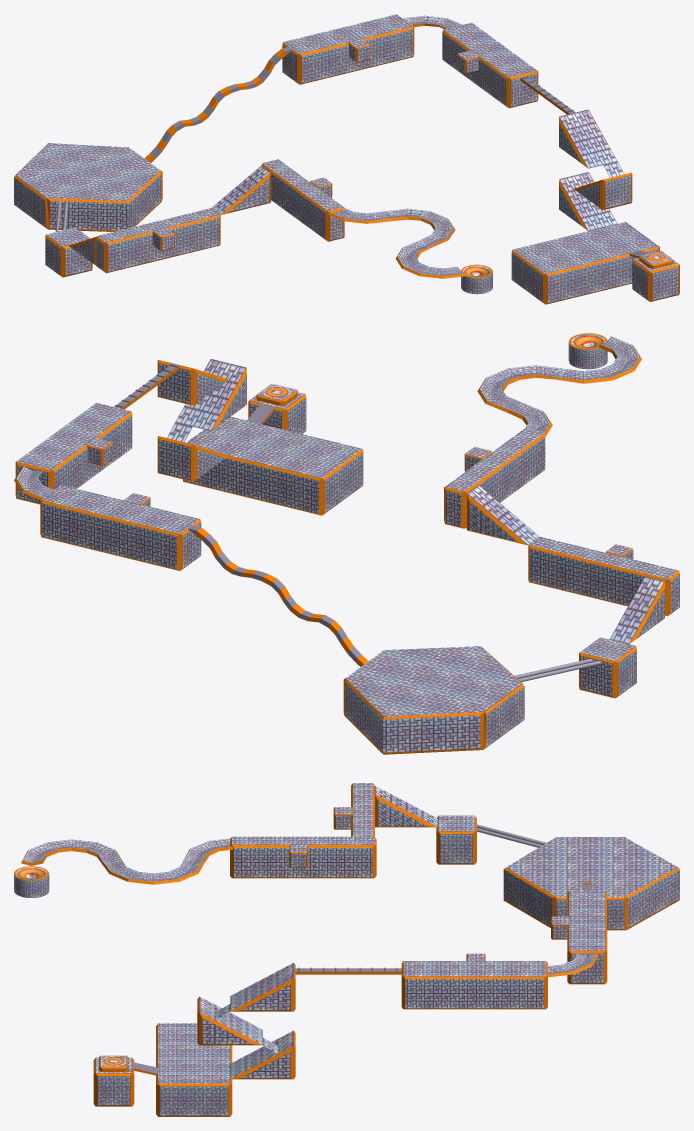
File: Level37.fbx
3 renders of one model, top to bottom at view 1: azimuth 30°, elevation 25°; view 2: azimuth 150°, elevation 25°; view 3: azimuth 270°, elevation 25°, orthographic. The views are drawn at different scales.
Parts seen in each view (by area): view 1: Level37; view 2: Level37; view 3: Level37.
Part boxes in pixels (x1=…): Level37: x1=14, y1=14, x2=679, y2=304; Level37: x1=14, y1=333, x2=679, y2=754; Level37: x1=14, y1=783, x2=679, y2=1116.
Bounding box in the file's own units: 4818 × 1228 × 5445.
Materials: 12 (7 with a texture image).
